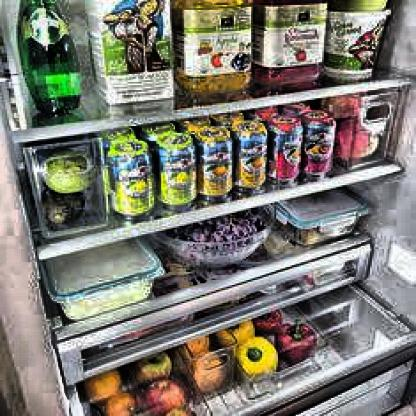apple: (147, 378, 185, 414), (138, 353, 171, 382)
blueberries: (182, 218, 262, 258)
mineral_water: (19, 0, 84, 111)
orange: (88, 368, 124, 404), (104, 393, 134, 414)
red_bell_pepper: (278, 324, 317, 362), (256, 311, 282, 336)
yellow_bell_pepper: (237, 338, 278, 374), (216, 321, 253, 345)
